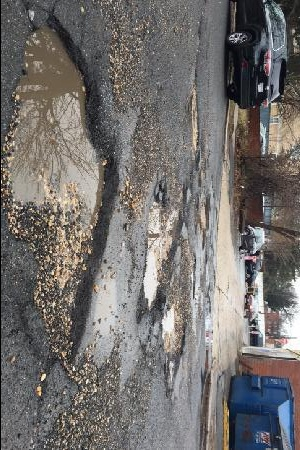pothole: (2, 12, 121, 370), (132, 176, 185, 320), (159, 296, 188, 377), (190, 76, 201, 149), (199, 201, 211, 233)
